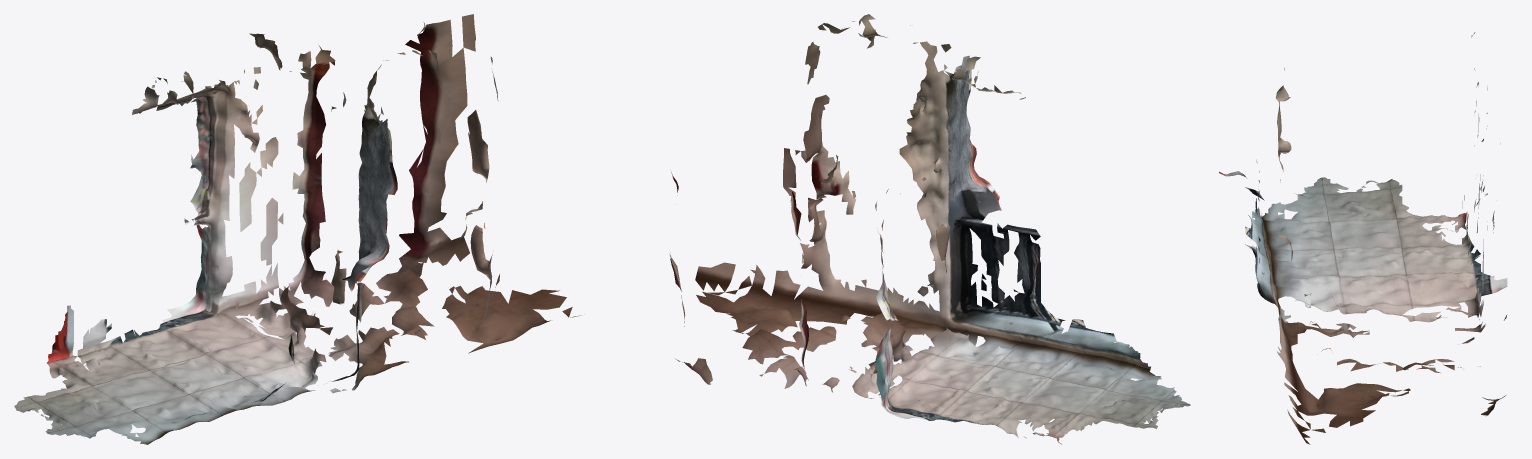
The model's file is 138733-HostelMap-tex (1).glb.
The picture shows the model from 3 angles, left to right: view 1: azimuth 30°, elevation 25°; view 2: azimuth 150°, elevation 25°; view 3: azimuth 270°, elevation 25°; orthographic projection. The views are drawn at different scales.
Visible parts, largest first — view 1: Node; view 2: Node; view 3: Node.
Part boxes in pixels (left/top/right/bottom): Node: left=14, top=14, right=580, bottom=444; Node: left=669, top=14, right=1190, bottom=444; Node: left=1219, top=32, right=1507, bottom=444.
Size of the model in its own units: 5.44 by 3.34 by 2.61.
Materials: 1 (1 with a texture image).
